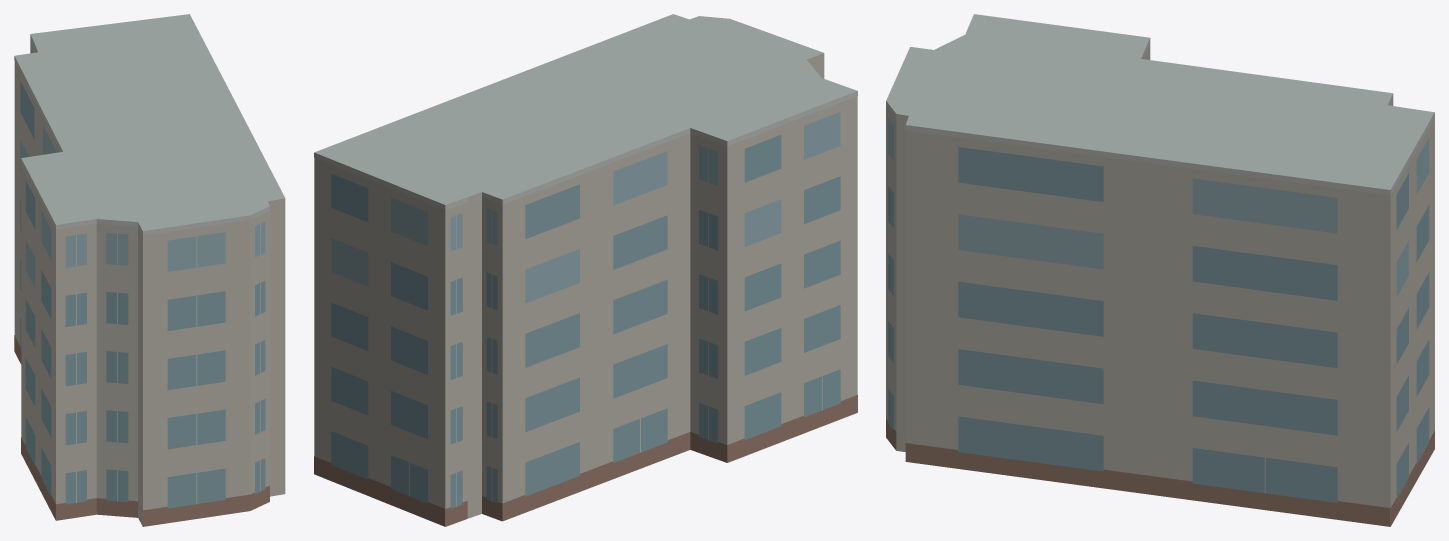
Rendered from survey-upis-32667216.glb.
3 views of the same model, side by side, from view 1: azimuth 30°, elevation 25°; view 2: azimuth 150°, elevation 25°; view 3: azimuth 270°, elevation 25° (orthographic). The views are drawn at different scales.
Visible parts, largest first — view 1: survey-upis-32667216.tmp; view 2: survey-upis-32667216.tmp; view 3: survey-upis-32667216.tmp.
Boxes of the visible parts, x1,y1,x2,y2 form: survey-upis-32667216.tmp: (14, 14, 285, 526); survey-upis-32667216.tmp: (314, 14, 857, 526); survey-upis-32667216.tmp: (886, 14, 1434, 526).
Size of the model in its own units: 17.05 by 15.2 by 22.45.
